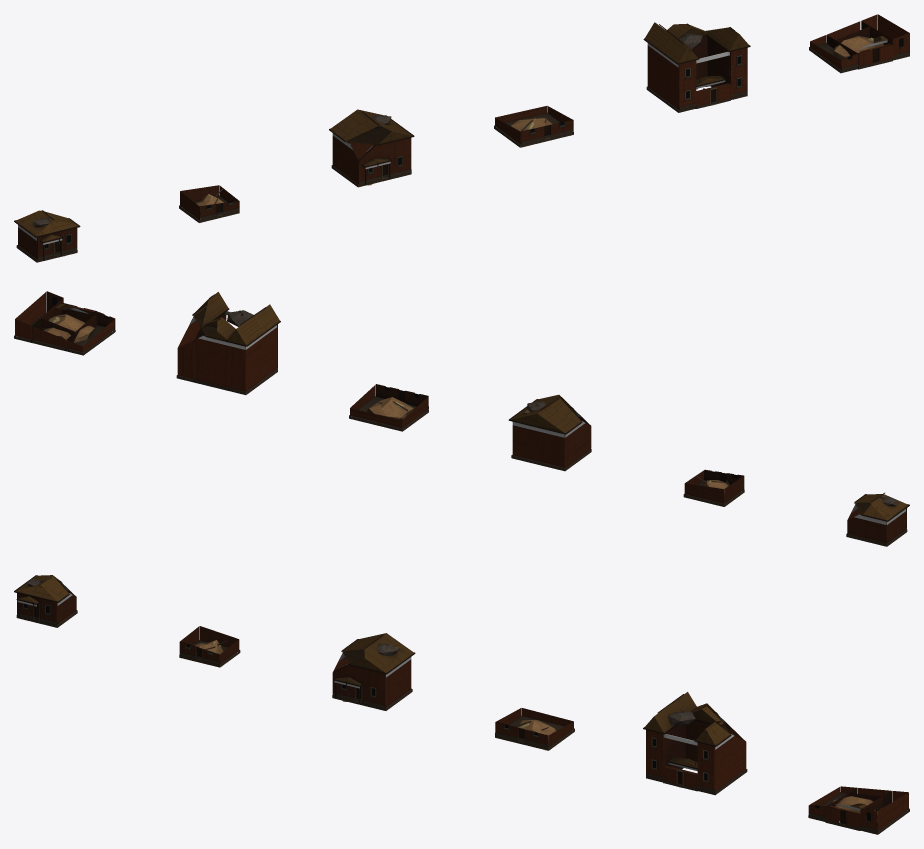
File: gunpowder-westafrica-houses-damage.glb
The picture shows the model from 3 angles, top to bottom: view 1: azimuth 30°, elevation 25°; view 2: azimuth 150°, elevation 25°; view 3: azimuth 330°, elevation 25°; orthographic projection.
Parts seen in each view (by area): view 1: LOD0.004, LOD0.002, LOD0.005, LOD0, LOD0.003, LOD0.001; view 2: LOD0.004, LOD0.002, LOD0.005, LOD0.003, LOD0, LOD0.001; view 3: LOD0.004, LOD0.002, LOD0.005, LOD0, LOD0.003, LOD0.001.
Part boxes in pixels (left/top/right/bottom): LOD0.004: left=643, top=22, right=750, bottom=112; LOD0.002: left=329, top=109, right=414, bottom=187; LOD0.005: left=809, top=14, right=909, bottom=73; LOD0: left=14, top=210, right=80, bottom=262; LOD0.003: left=494, top=106, right=573, bottom=147; LOD0.001: left=179, top=185, right=239, bottom=222; LOD0.004: left=176, top=292, right=280, bottom=394; LOD0.002: left=508, top=394, right=591, bottom=471; LOD0.005: left=14, top=291, right=115, bottom=355; LOD0.003: left=349, top=384, right=428, bottom=431; LOD0: left=846, top=492, right=909, bottom=546; LOD0.001: left=683, top=469, right=744, bottom=506; LOD0.004: left=643, top=692, right=747, bottom=795; LOD0.002: left=332, top=633, right=415, bottom=710; LOD0.005: left=808, top=786, right=909, bottom=834; LOD0: left=14, top=575, right=77, bottom=627; LOD0.003: left=495, top=708, right=574, bottom=750; LOD0.001: left=179, top=626, right=240, bottom=667.
Size of what is drawn, in the model's own units: 16.05 by 1.17 by 1.09.
Materials: 2 (2 with a texture image).
